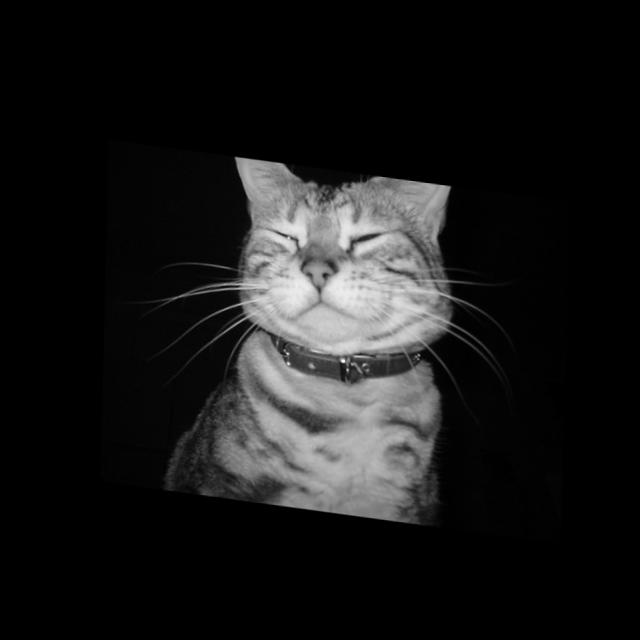animals: (228, 153, 442, 296)
